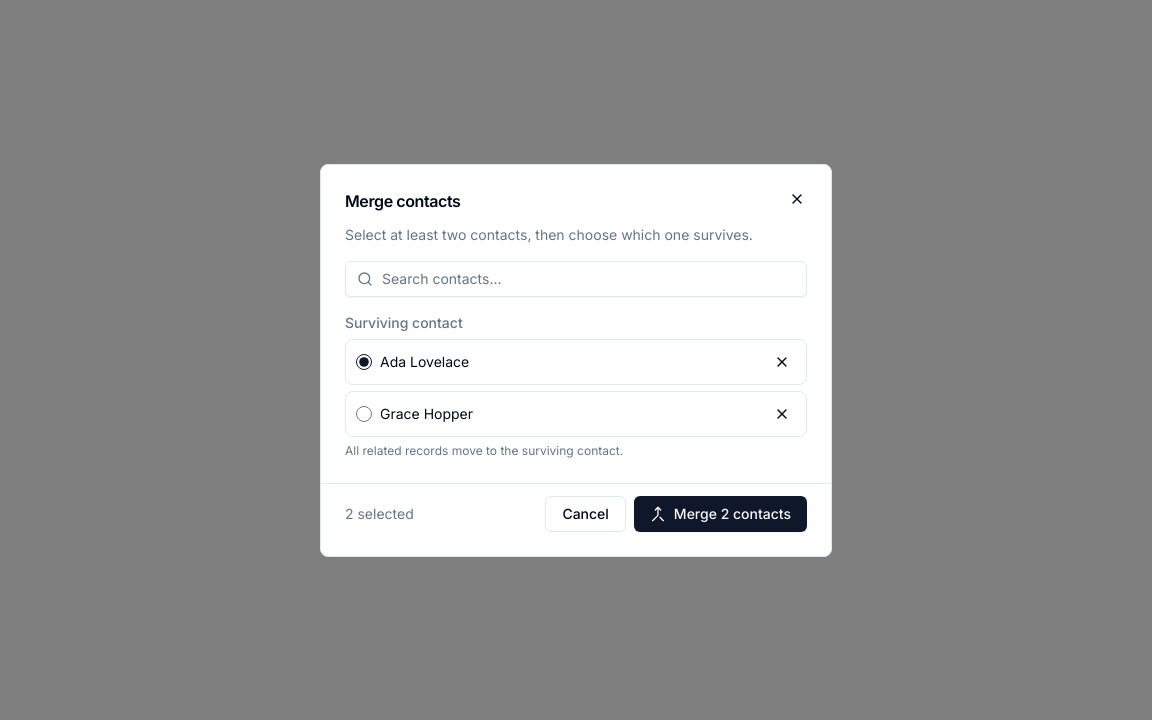
Test: MergeContactsDialog › switches the survivor when the current one is removed
Click the button named "Remove" in the row of "Ada Lovelace". click: [782, 362]
box: [768,348,796,376]
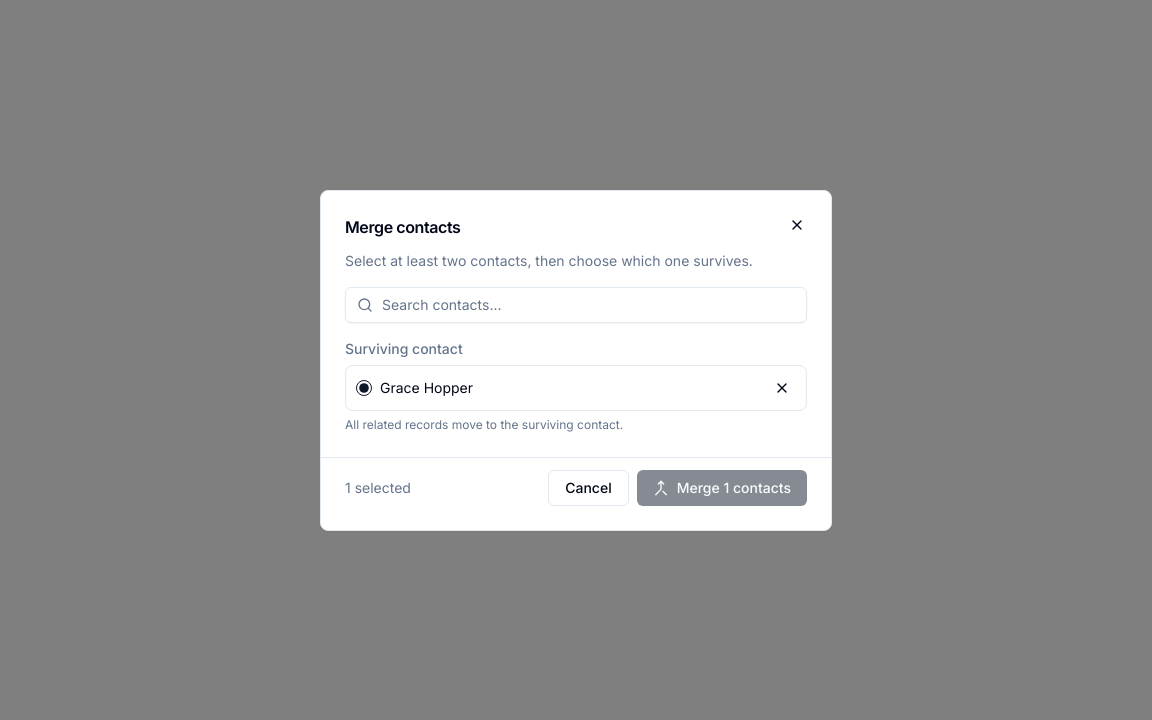
Check: the radio button labelled "Grace Hopper" is checked, box [356,380,372,396]
Check: the label "Ada Lovelace" is gone
